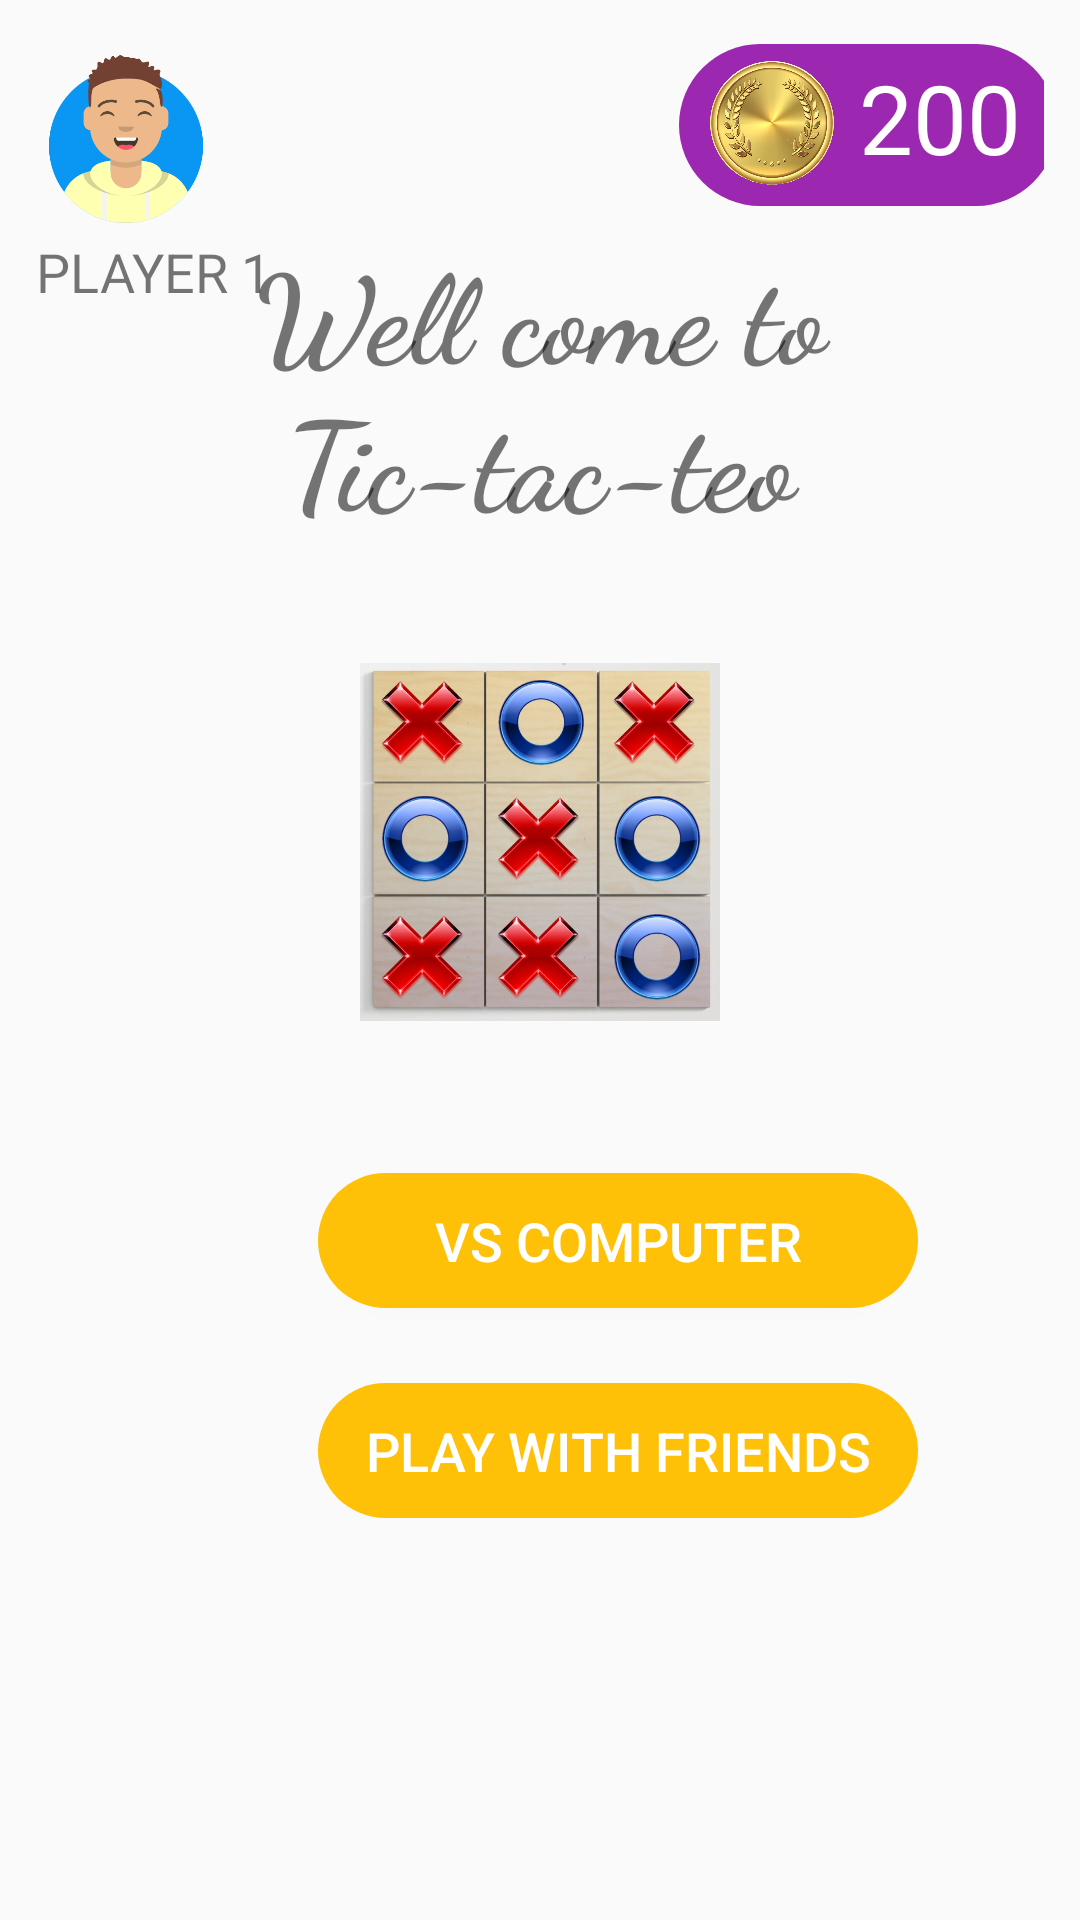

Named icons in this screenshot (1080w x 1920h) and their bounding boxes, {"x1": x1, "y1": y1, "x2": x2, "y2": y2}:
coin: {"x1": 710, "y1": 61, "x2": 834, "y2": 185}
